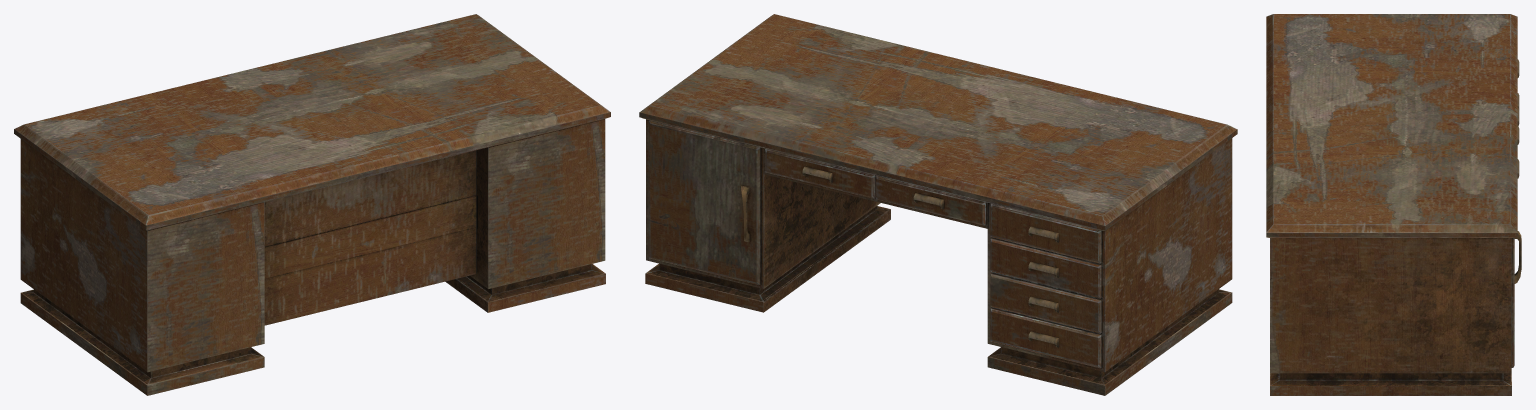
Rendered from deks.fbx.
3 views of the same model, side by side, from view 1: azimuth 30°, elevation 25°; view 2: azimuth 150°, elevation 25°; view 3: azimuth 270°, elevation 25° (orthographic). The views are drawn at different scales.
Parts seen in each view (by area): view 1: Desk; view 2: Desk; view 3: Desk.
Boxes of the visible parts, x1,y1,x2,y2 form: Desk: [14, 14, 610, 395]; Desk: [639, 14, 1237, 395]; Desk: [1266, 14, 1521, 395].
Bounding box in the file's own units: 196 × 72.01 × 97.99.
1 material, 1 textured.
